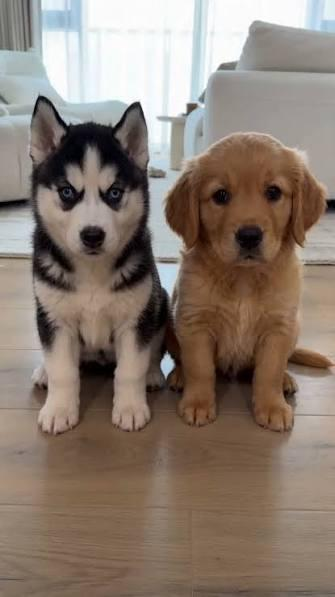puppy-dog: (164, 133, 333, 433), (28, 93, 171, 435)
